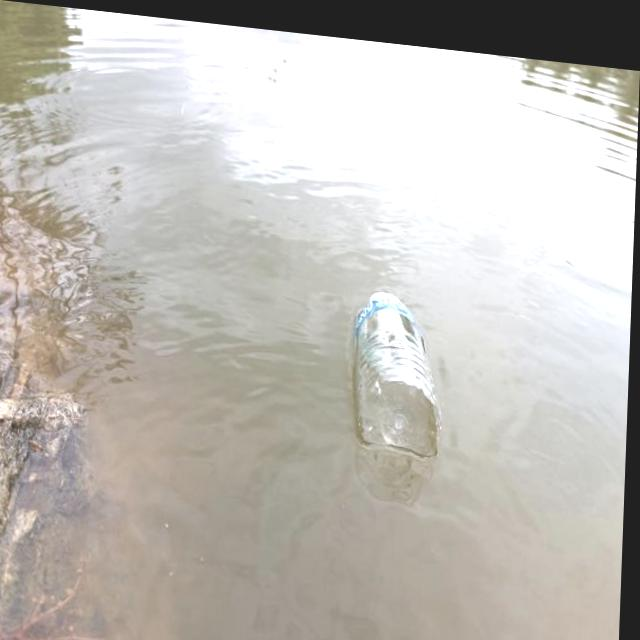waterbottle: (317, 270, 459, 458)
